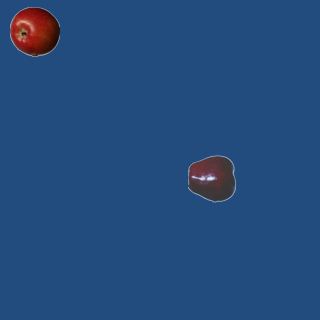Apple Braeburn: (9, 6, 59, 56)
Apple Red Delicious: (187, 153, 237, 203)
